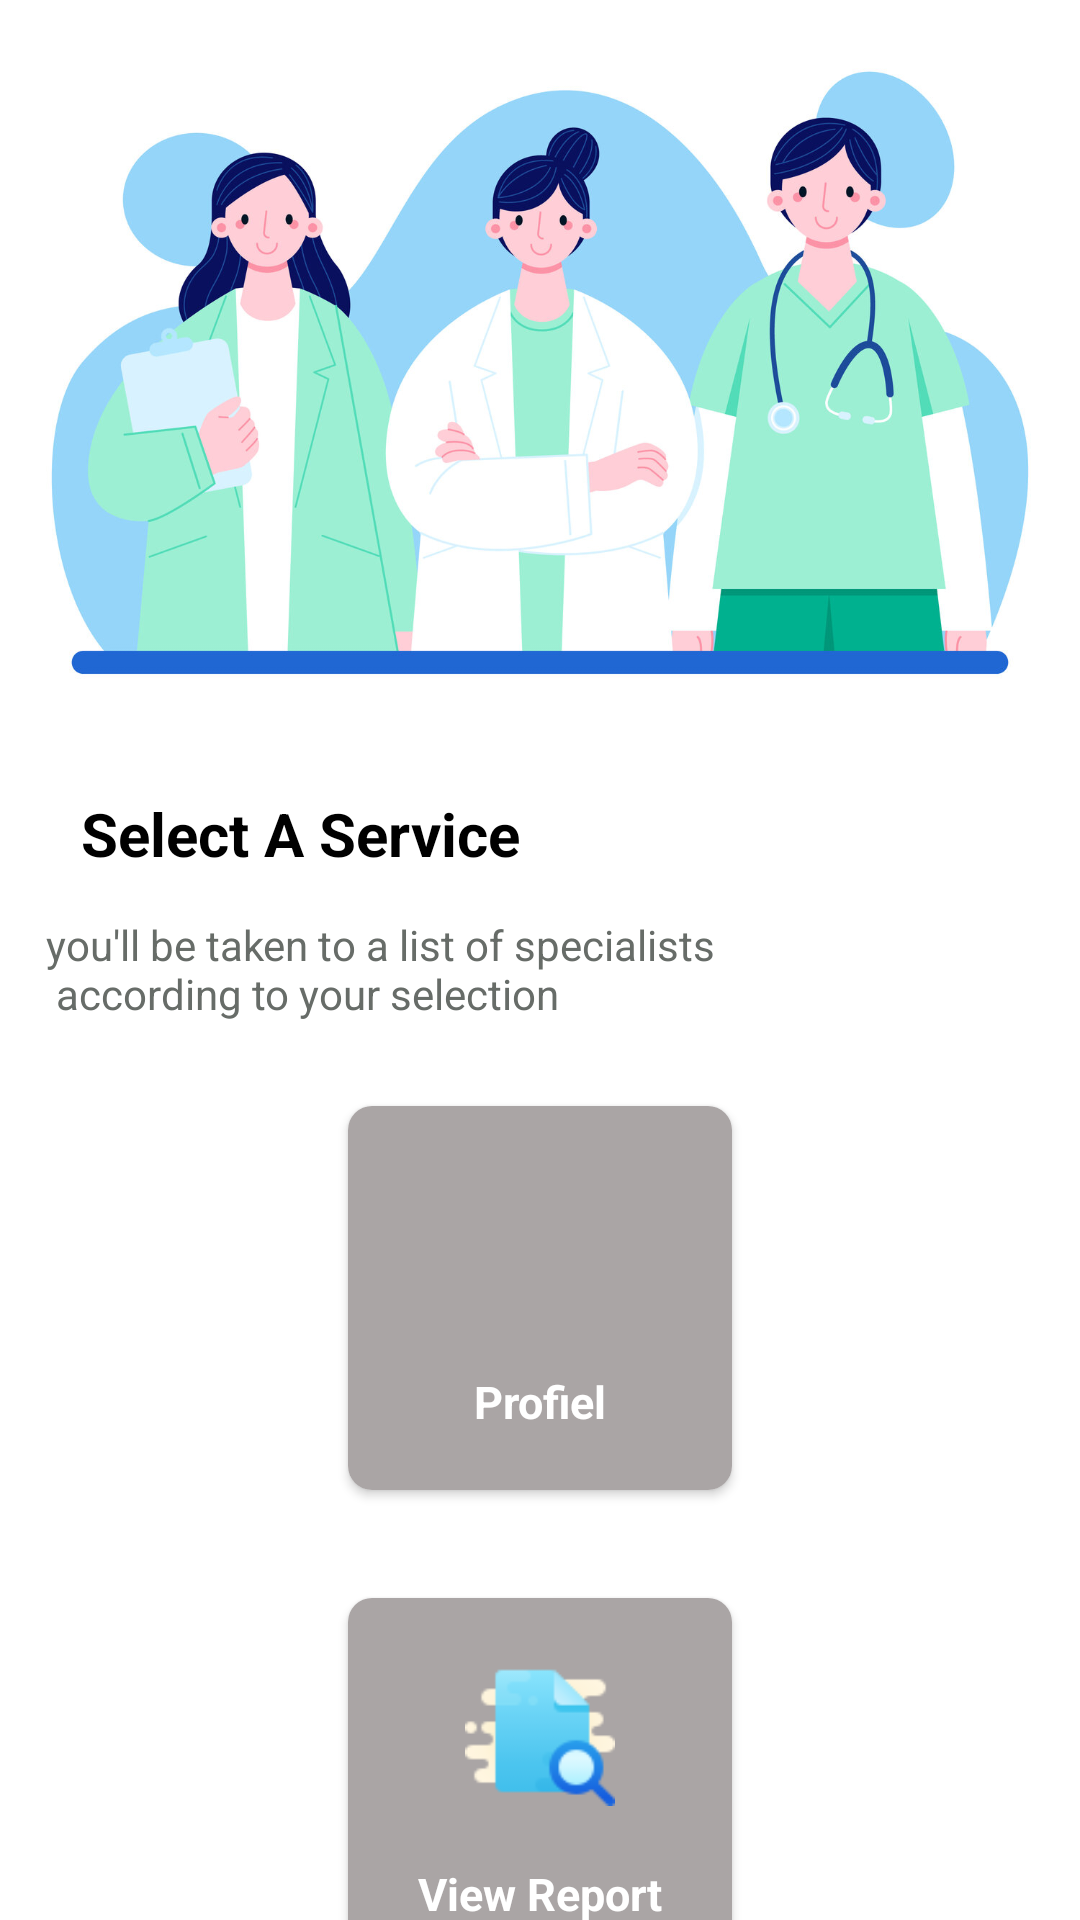

Icons on this 1080w x 1920h Android screen, each with the point to tap as [x,y]:
viewhistory: [540,1738]
